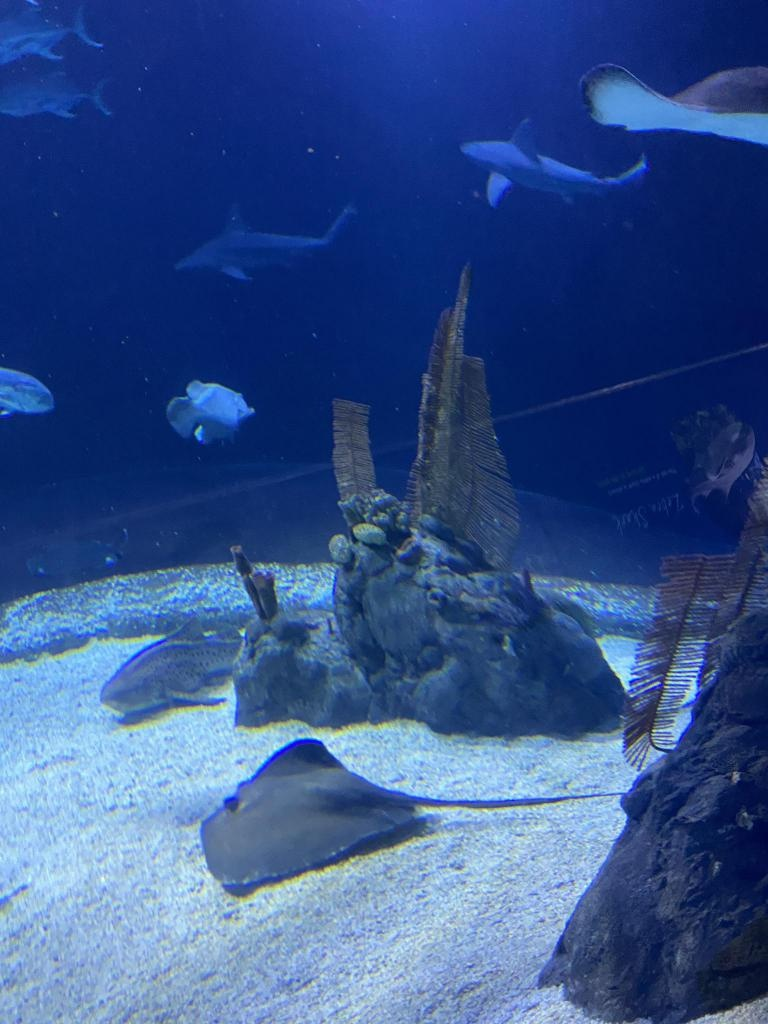fish: (99, 614, 246, 714), (0, 66, 117, 124), (1, 2, 103, 66), (166, 379, 256, 447), (0, 366, 54, 420)
shark: (459, 114, 651, 212), (174, 197, 366, 287)
stingray: (200, 739, 426, 885), (579, 64, 768, 149), (26, 538, 121, 578)
